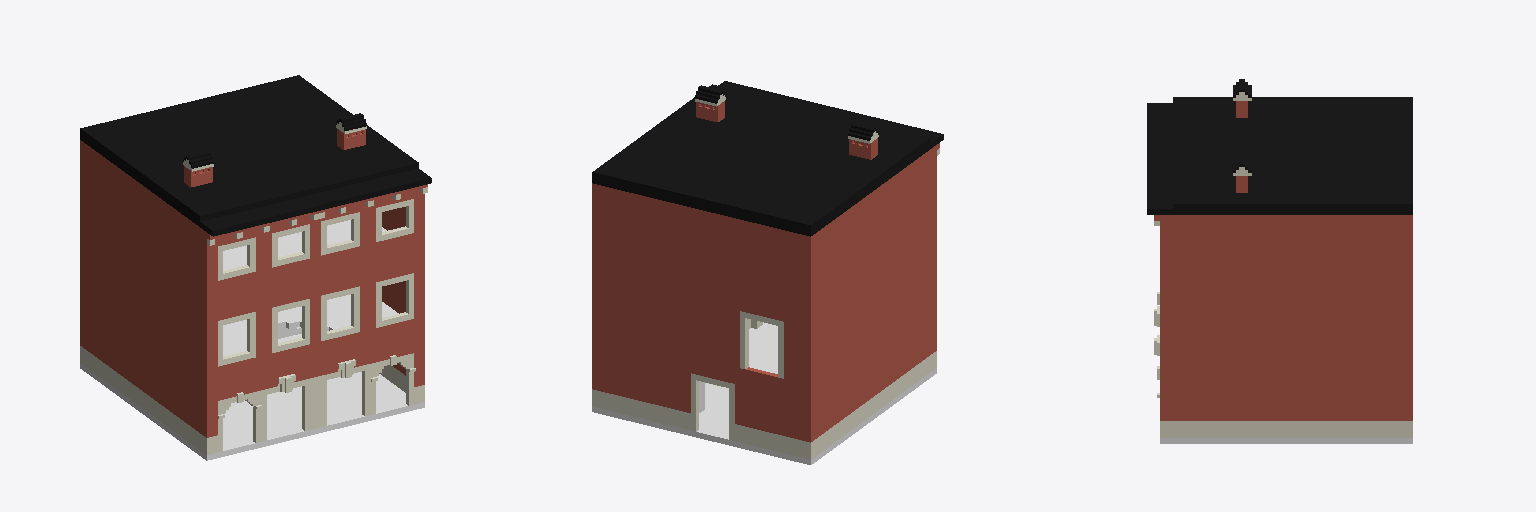
3 views of the same model, side by side, from view 1: azimuth 30°, elevation 25°; view 2: azimuth 150°, elevation 25°; view 3: azimuth 270°, elevation 25° (orthographic).
Parts seen in each view (by area): view 1: object 1; view 2: object 1; view 3: object 1.
Boxes of the visible parts, <box> form: object 1: <box>80,75,431,460</box>; object 1: <box>592,81,943,464</box>; object 1: <box>1147,79,1412,443</box>.
Size of the model in its own units: 8 by 9.4 by 8.4.
Materials: 1 (1 with a texture image).